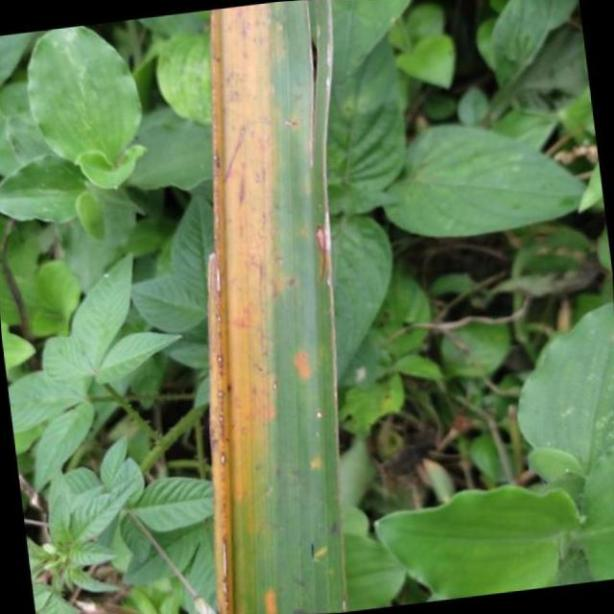Megnesium: (204, 0, 348, 614)
